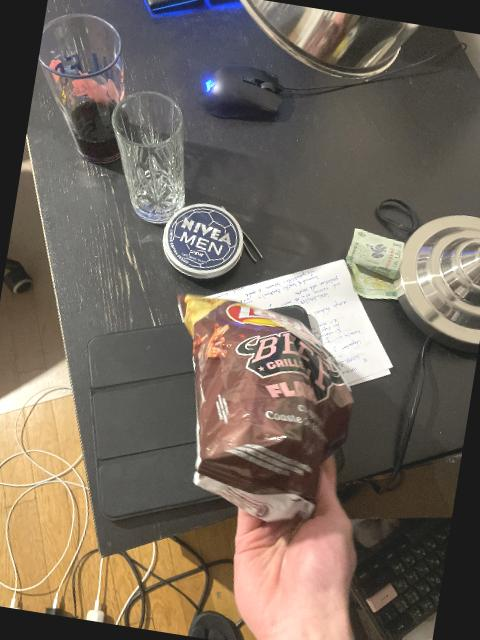Lays Beef Grilled Ribs 125g: (147, 286, 361, 520)
